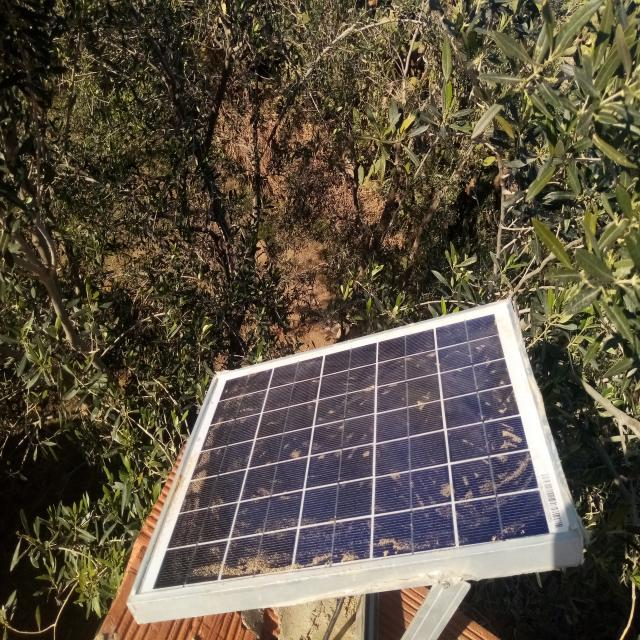faulty: (129, 291, 585, 603)
